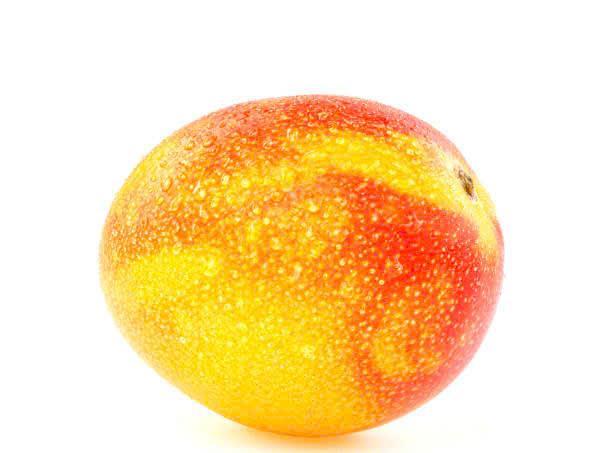mango: (124, 69, 511, 453)
